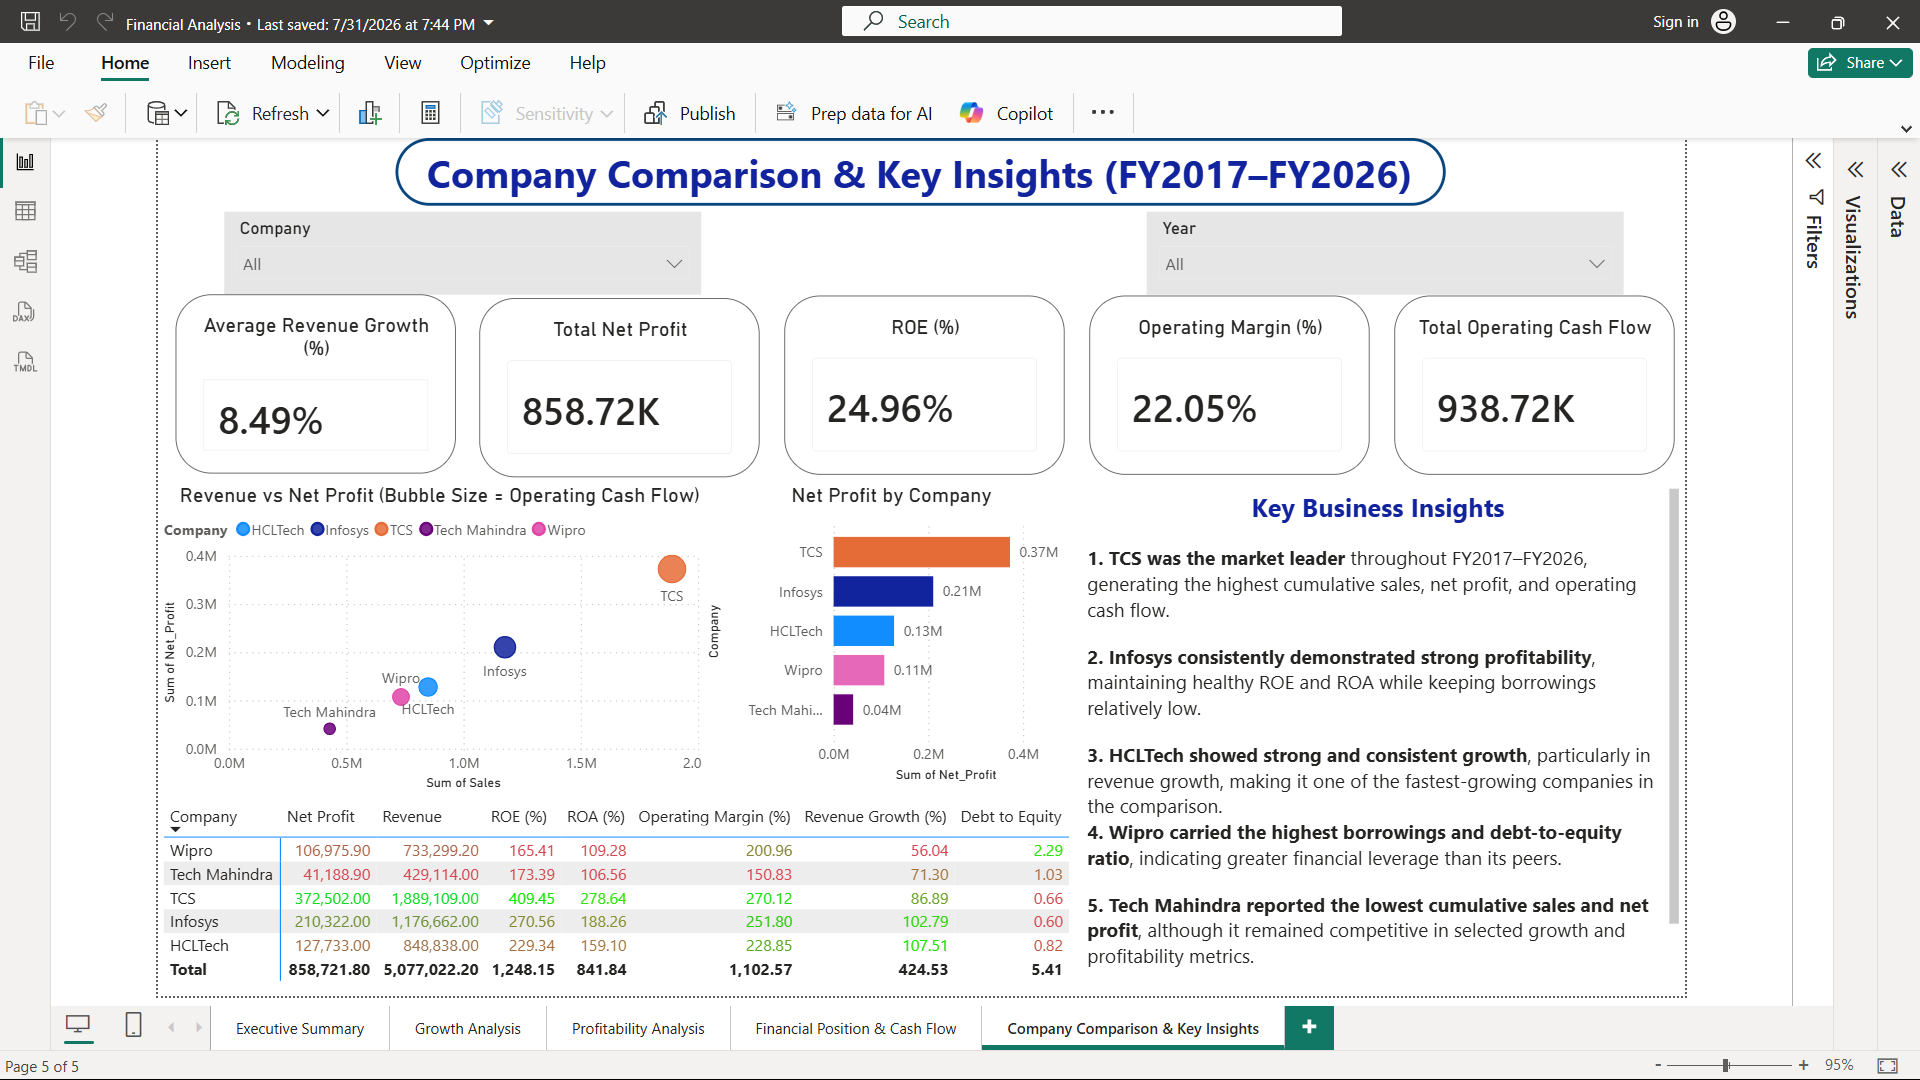

The page's visual inventory and layout, read from the dashboard file:
{"tool":"powerbi","page":{"name":"Company Comparison & Key Insights","canvas":[1280,720],"ordinal":4},"visuals":[{"type":"textbox","box":[199.2,0,880.6,56.6],"z":0},{"type":"slicer","fields":{"Values":["financial_kpis.Company"]},"box":[55.8,61.6,400,69.8],"z":1000},{"type":"slicer","fields":{"Values":["financial_kpis.Year"]},"box":[829.1,61.6,400,69.8],"z":2000},{"type":"cardVisual","title":"Average Revenue Growth (%)","fields":{"Data":["Avg(financial_kpis.Revenue_Growth_%)"]},"box":[15.1,131.4,235,150],"z":3000},{"type":"cardVisual","title":"Total Net Profit","fields":{"Data":["Sum(financial_kpis.Net_Profit)"]},"box":[269.8,133.7,235,150],"z":4000},{"type":"cardVisual","title":"Operating Margin (%)","fields":{"Data":["Avg(financial_kpis.Operating_Margin_%)"]},"box":[781.4,132.6,235,150],"z":5000},{"type":"cardVisual","title":"Total Operating Cash Flow","fields":{"Data":["Sum(financial_kpis.Operating_Cash_Flow)"]},"box":[1037.2,132.6,235,150],"z":6000},{"type":"cardVisual","title":"ROE (%)","fields":{"Data":["Avg(financial_kpis.ROE_%)"]},"box":[525.6,132.6,235,150],"z":7000},{"type":"scatterChart","title":"Revenue vs Net Profit (Bubble Size = Operating Cash Flow)","fields":{"X":["Sum(financial_kpis.Sales)"],"Y":["Sum(financial_kpis.Net_Profit)"],"Size":["Sum(financial_kpis.Operating_Cash_Flow)"],"Series":["financial_kpis.Company"]},"box":[0,289.5,472.1,262.8],"z":8000},{"type":"pivotTable","fields":{"Rows":["financial_kpis.Company"],"Values":["Sum(financial_kpis.Net_Profit)","Sum(financial_kpis.Sales)","Sum(financial_kpis.ROE_%)","Sum(financial_kpis.ROA_%)","Sum(financial_kpis.Operating_Margin_%)","Sum(financial_kpis.Revenue_Growth_%)","Sum(financial_kpis.Debt_to_Equity)"]},"box":[0,552.2,774.8,167.3],"z":9000},{"type":"barChart","title":"Net Profit by Company","fields":{"Category":["financial_kpis.Company"],"Y":["Sum(financial_kpis.Net_Profit)"]},"box":[455.8,289.5,318.6,255.8],"z":11000},{"type":"textbox","box":[774.4,289.5,505.8,430.2],"z":12000}]}

Visuals, with their boxes on the page's 1280x720 design canvas (x1, y1, x2, y2). These are canvas units, not pixel positions in the 1920x1080 screenshot, which may show the page scaled, cropped or inside an application window:
textbox: bbox(199, 0, 1080, 57)
slicer - financial_kpis.Company: bbox(56, 62, 456, 131)
slicer - financial_kpis.Year: bbox(829, 62, 1229, 131)
"Average Revenue Growth (%)" cardVisual: bbox(15, 131, 250, 281)
"Total Net Profit" cardVisual: bbox(270, 134, 505, 284)
"Operating Margin (%)" cardVisual: bbox(781, 133, 1016, 283)
"Total Operating Cash Flow" cardVisual: bbox(1037, 133, 1272, 283)
"ROE (%)" cardVisual: bbox(526, 133, 761, 283)
"Revenue vs Net Profit (Bubble Size = Operating Cash Flow)" scatterChart: bbox(0, 290, 472, 552)
pivotTable - financial_kpis.Company x Sum(financial_kpis.Net_Profit): bbox(0, 552, 775, 720)
"Net Profit by Company" barChart: bbox(456, 290, 774, 545)
textbox: bbox(774, 290, 1280, 720)
